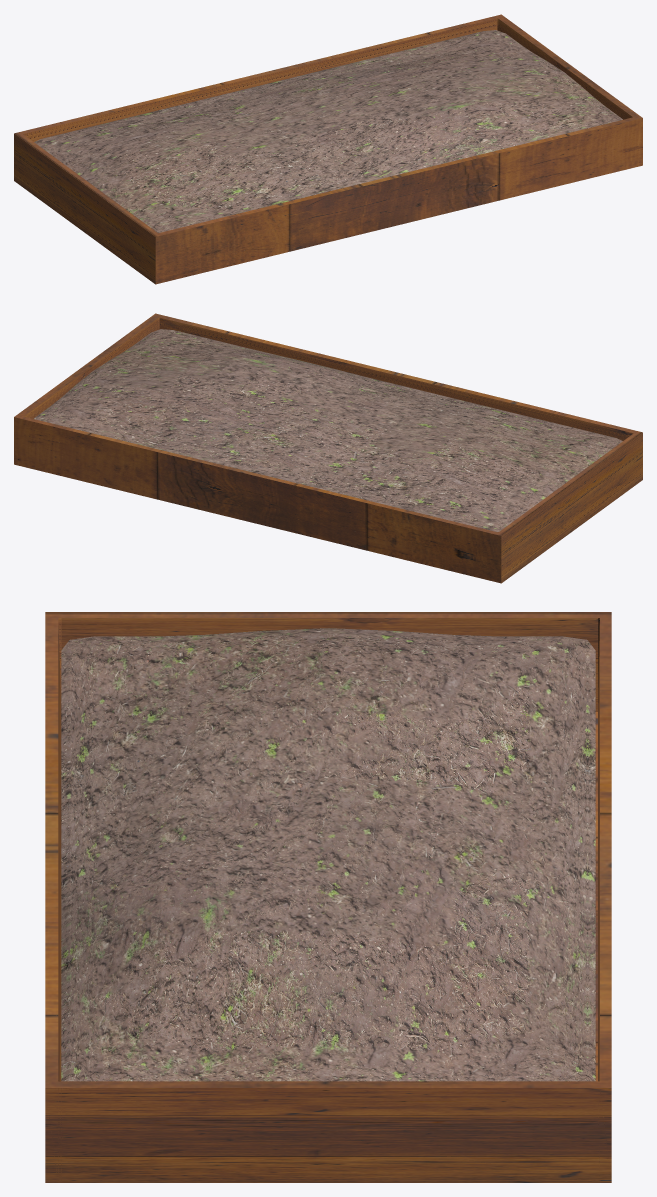
File: flowerbed.obj
3 views of the same model, one above another, from view 1: azimuth 30°, elevation 25°; view 2: azimuth 150°, elevation 25°; view 3: azimuth 270°, elevation 25° (orthographic). The views are drawn at different scales.
Parts seen in each view (by area): view 1: Dirt_Cube.002, Wood_Cube; view 2: Dirt_Cube.002, Wood_Cube; view 3: Dirt_Cube.002, Wood_Cube.
Part boxes in pixels (<box>): Dirt_Cube.002: <box>34,30,622,232</box>; Wood_Cube: <box>14,14,642,284</box>; Dirt_Cube.002: <box>34,329,622,531</box>; Wood_Cube: <box>14,313,642,583</box>; Dirt_Cube.002: <box>61,628,595,1081</box>; Wood_Cube: <box>45,612,611,1182</box>.
Bounding box in the file's own units: 11.5 × 1.47 × 5.78.
Materials: 2 (2 with a texture image).
